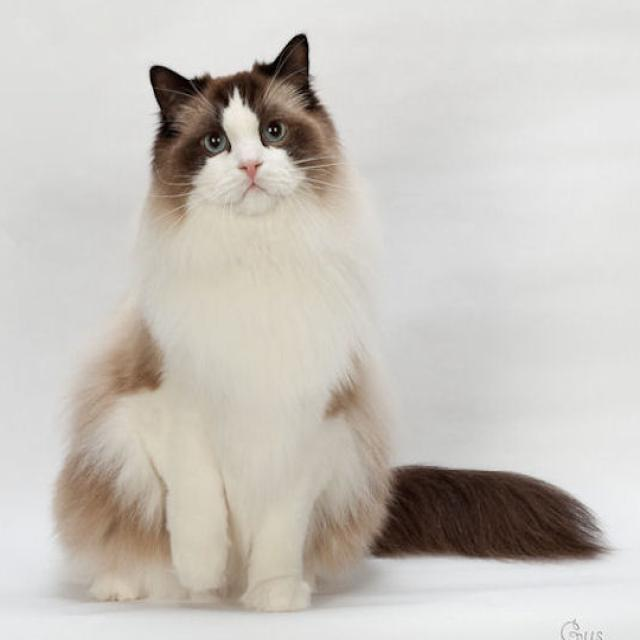Ragdoll: (44, 29, 608, 619)
